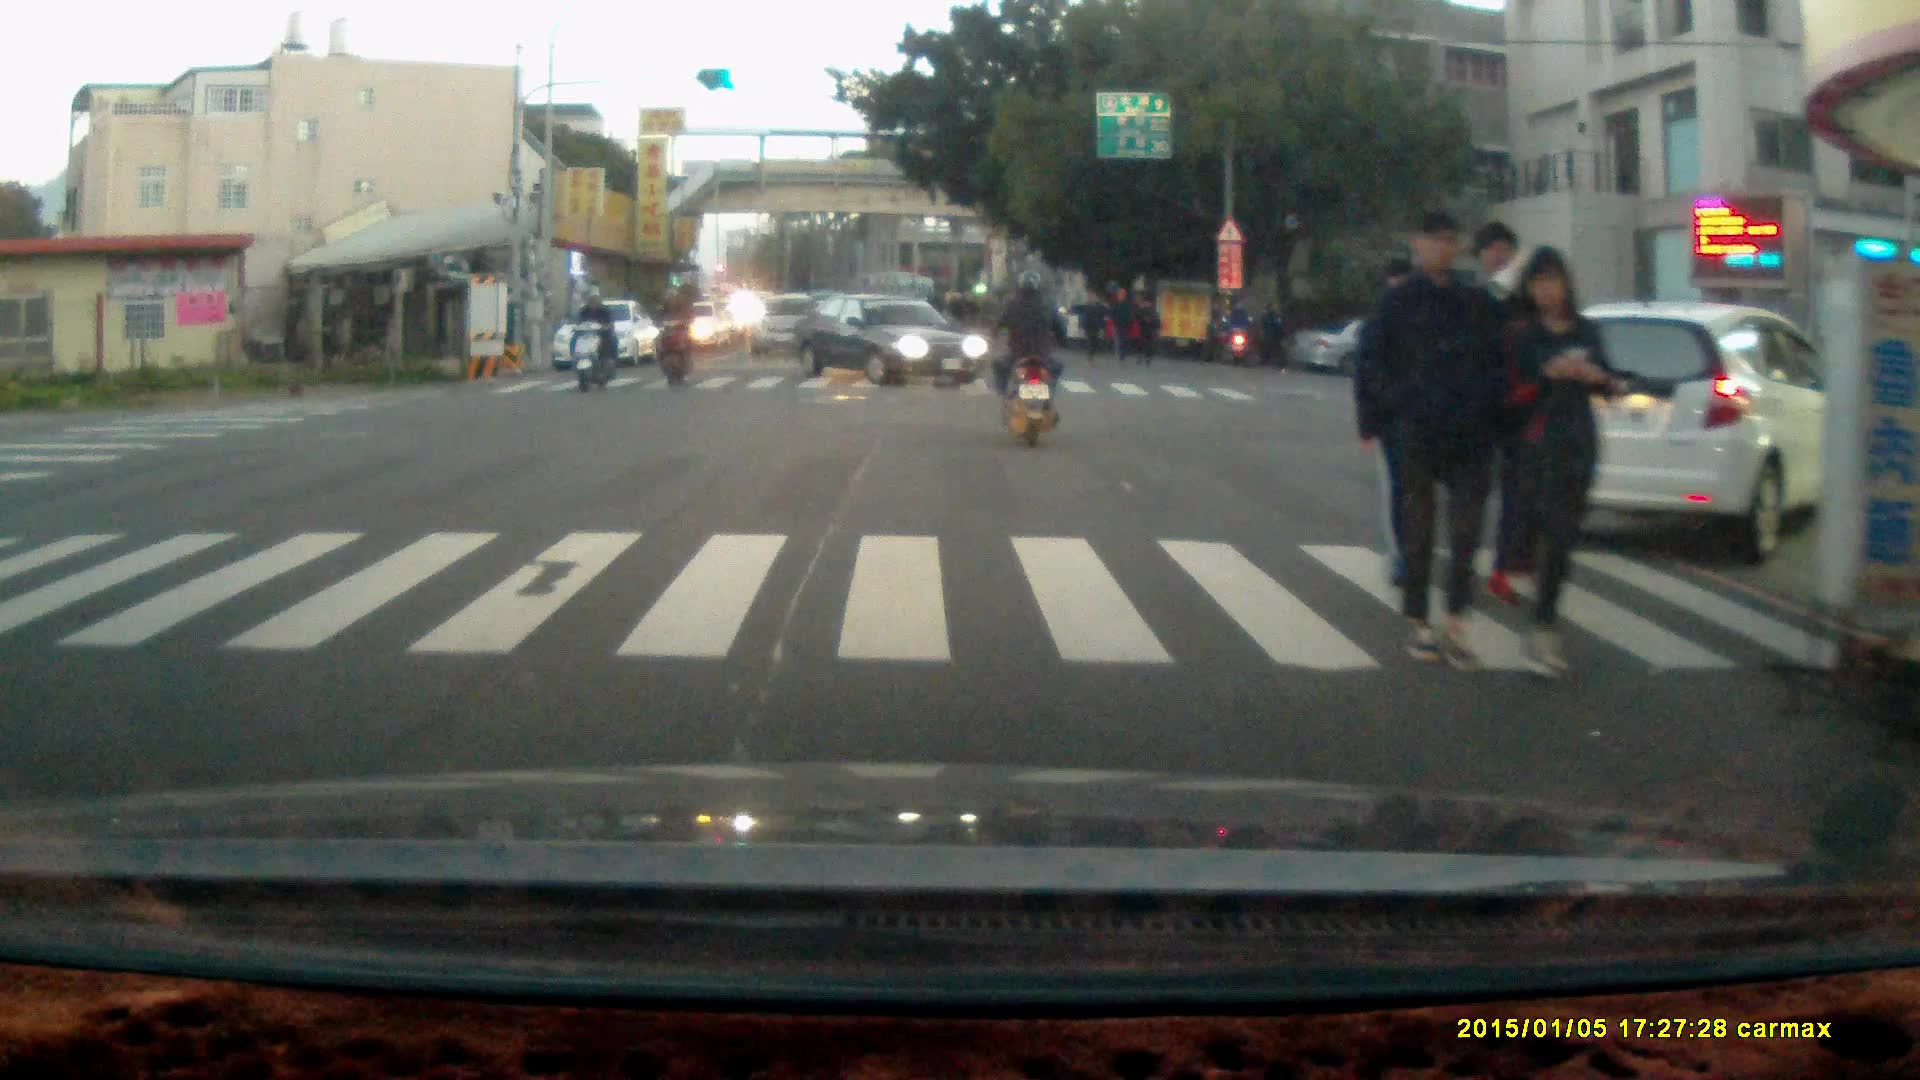pedestrian: (1357, 206, 1508, 682), (1497, 243, 1610, 677), (1104, 280, 1134, 366), (1128, 290, 1160, 367), (1254, 292, 1285, 369), (1073, 286, 1102, 365)
rider: (993, 265, 1065, 449), (569, 284, 618, 393), (647, 282, 696, 385), (1214, 298, 1253, 361)
vehicle: (1513, 296, 1894, 572), (787, 288, 992, 386), (554, 300, 657, 370), (748, 290, 847, 362)
